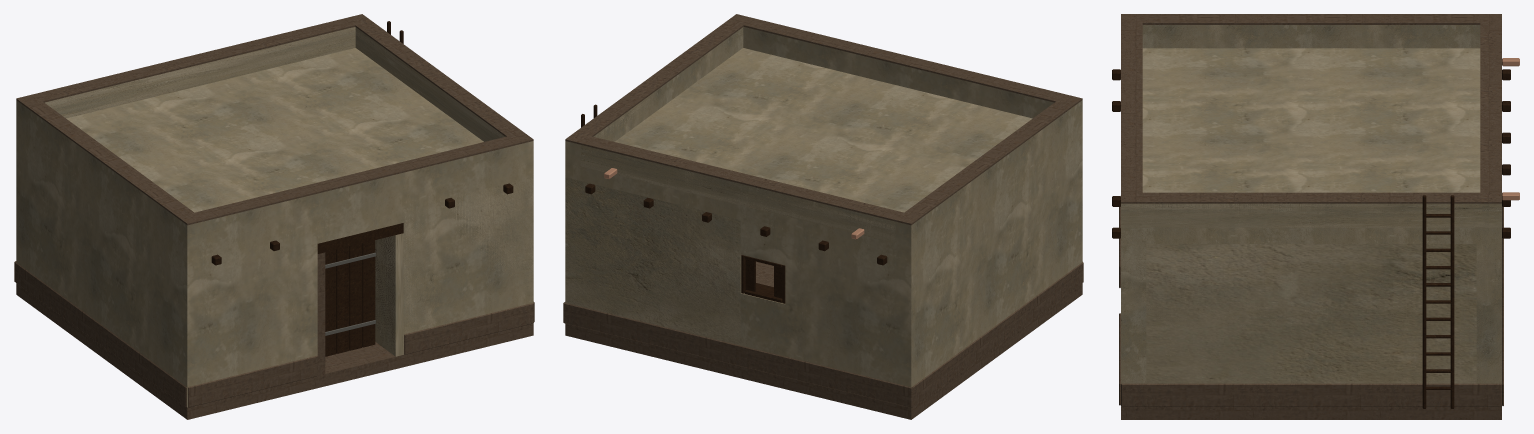
The model's file is d_home_7x6.glb.
The picture shows the model from 3 angles, left to right: view 1: azimuth 30°, elevation 25°; view 2: azimuth 150°, elevation 25°; view 3: azimuth 270°, elevation 25°; orthographic projection. The views are drawn at different scales.
Visible parts, largest first — view 1: front adobe pier, model floor, front adobe pier-colonly.001, end parapet-colonly.001, entry reveal-colonly.001, side parapet-colonly.001, structural timber lintel, Door entry plank.003, Door entry plank.004, Door entry plank.002, Door entry plank.001; view 2: front adobe pier, model floor, rear adobe pier-colonly.001, end parapet-colonly.001, structural timber lintel, side parapet-colonly.001; view 3: front adobe pier, side adobe wall-colonly.001, model floor, side parapet-colonly.001, structural timber lintel, rear adobe pier-colonly.001, front adobe pier-colonly.001.
Part boxes in pixels (box(x1,y1,x2,y2)): front adobe pier: box(16, 29, 533, 407); model floor: box(14, 14, 534, 419); front adobe pier-colonly.001: box(403, 177, 533, 345); end parapet-colonly.001: box(45, 27, 355, 118); entry reveal-colonly.001: box(375, 233, 403, 356); side parapet-colonly.001: box(355, 27, 524, 165); structural timber lintel: box(211, 21, 513, 265); Door entry plank.003: box(349, 243, 362, 350); Door entry plank.004: box(362, 240, 375, 347); Door entry plank.002: box(336, 246, 349, 353); Door entry plank.001: box(325, 250, 336, 356); front adobe pier: box(565, 27, 1082, 387); model floor: box(563, 14, 1083, 419); rear adobe pier-colonly.001: box(565, 177, 740, 345); end parapet-colonly.001: box(581, 145, 895, 243); structural timber lintel: box(581, 104, 887, 303); side parapet-colonly.001: box(595, 28, 743, 137); front adobe pier: box(1121, 25, 1501, 383); side adobe wall-colonly.001: box(1146, 244, 1476, 383); model floor: box(1119, 14, 1503, 419); side parapet-colonly.001: box(1121, 203, 1501, 227); structural timber lintel: box(1112, 69, 1510, 408); rear adobe pier-colonly.001: box(1477, 244, 1501, 383); front adobe pier-colonly.001: box(1121, 244, 1146, 383).
Size of what is drawn, in the model's own units: 7.15 by 3.94 by 6.42.
7 materials, 4 textured.
